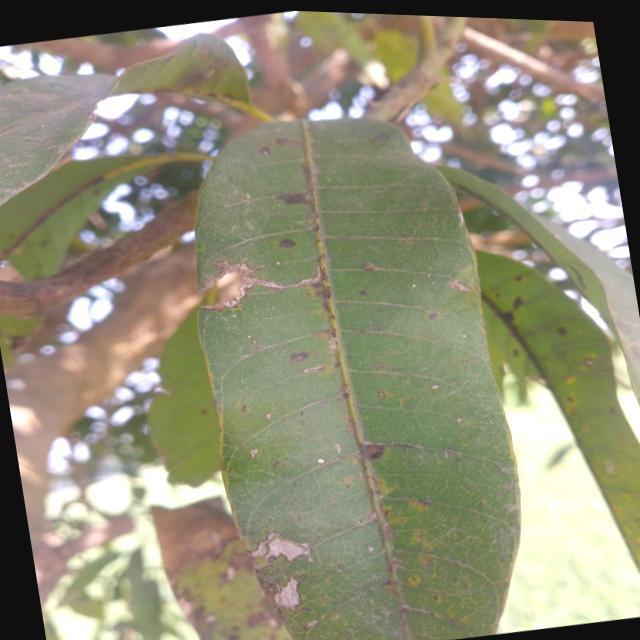Anthracnose: (359, 440, 387, 462), (290, 350, 311, 364), (278, 237, 297, 251)
Powdery Mildew: (258, 532, 307, 572), (269, 574, 304, 613)
black die: (278, 183, 310, 207)
